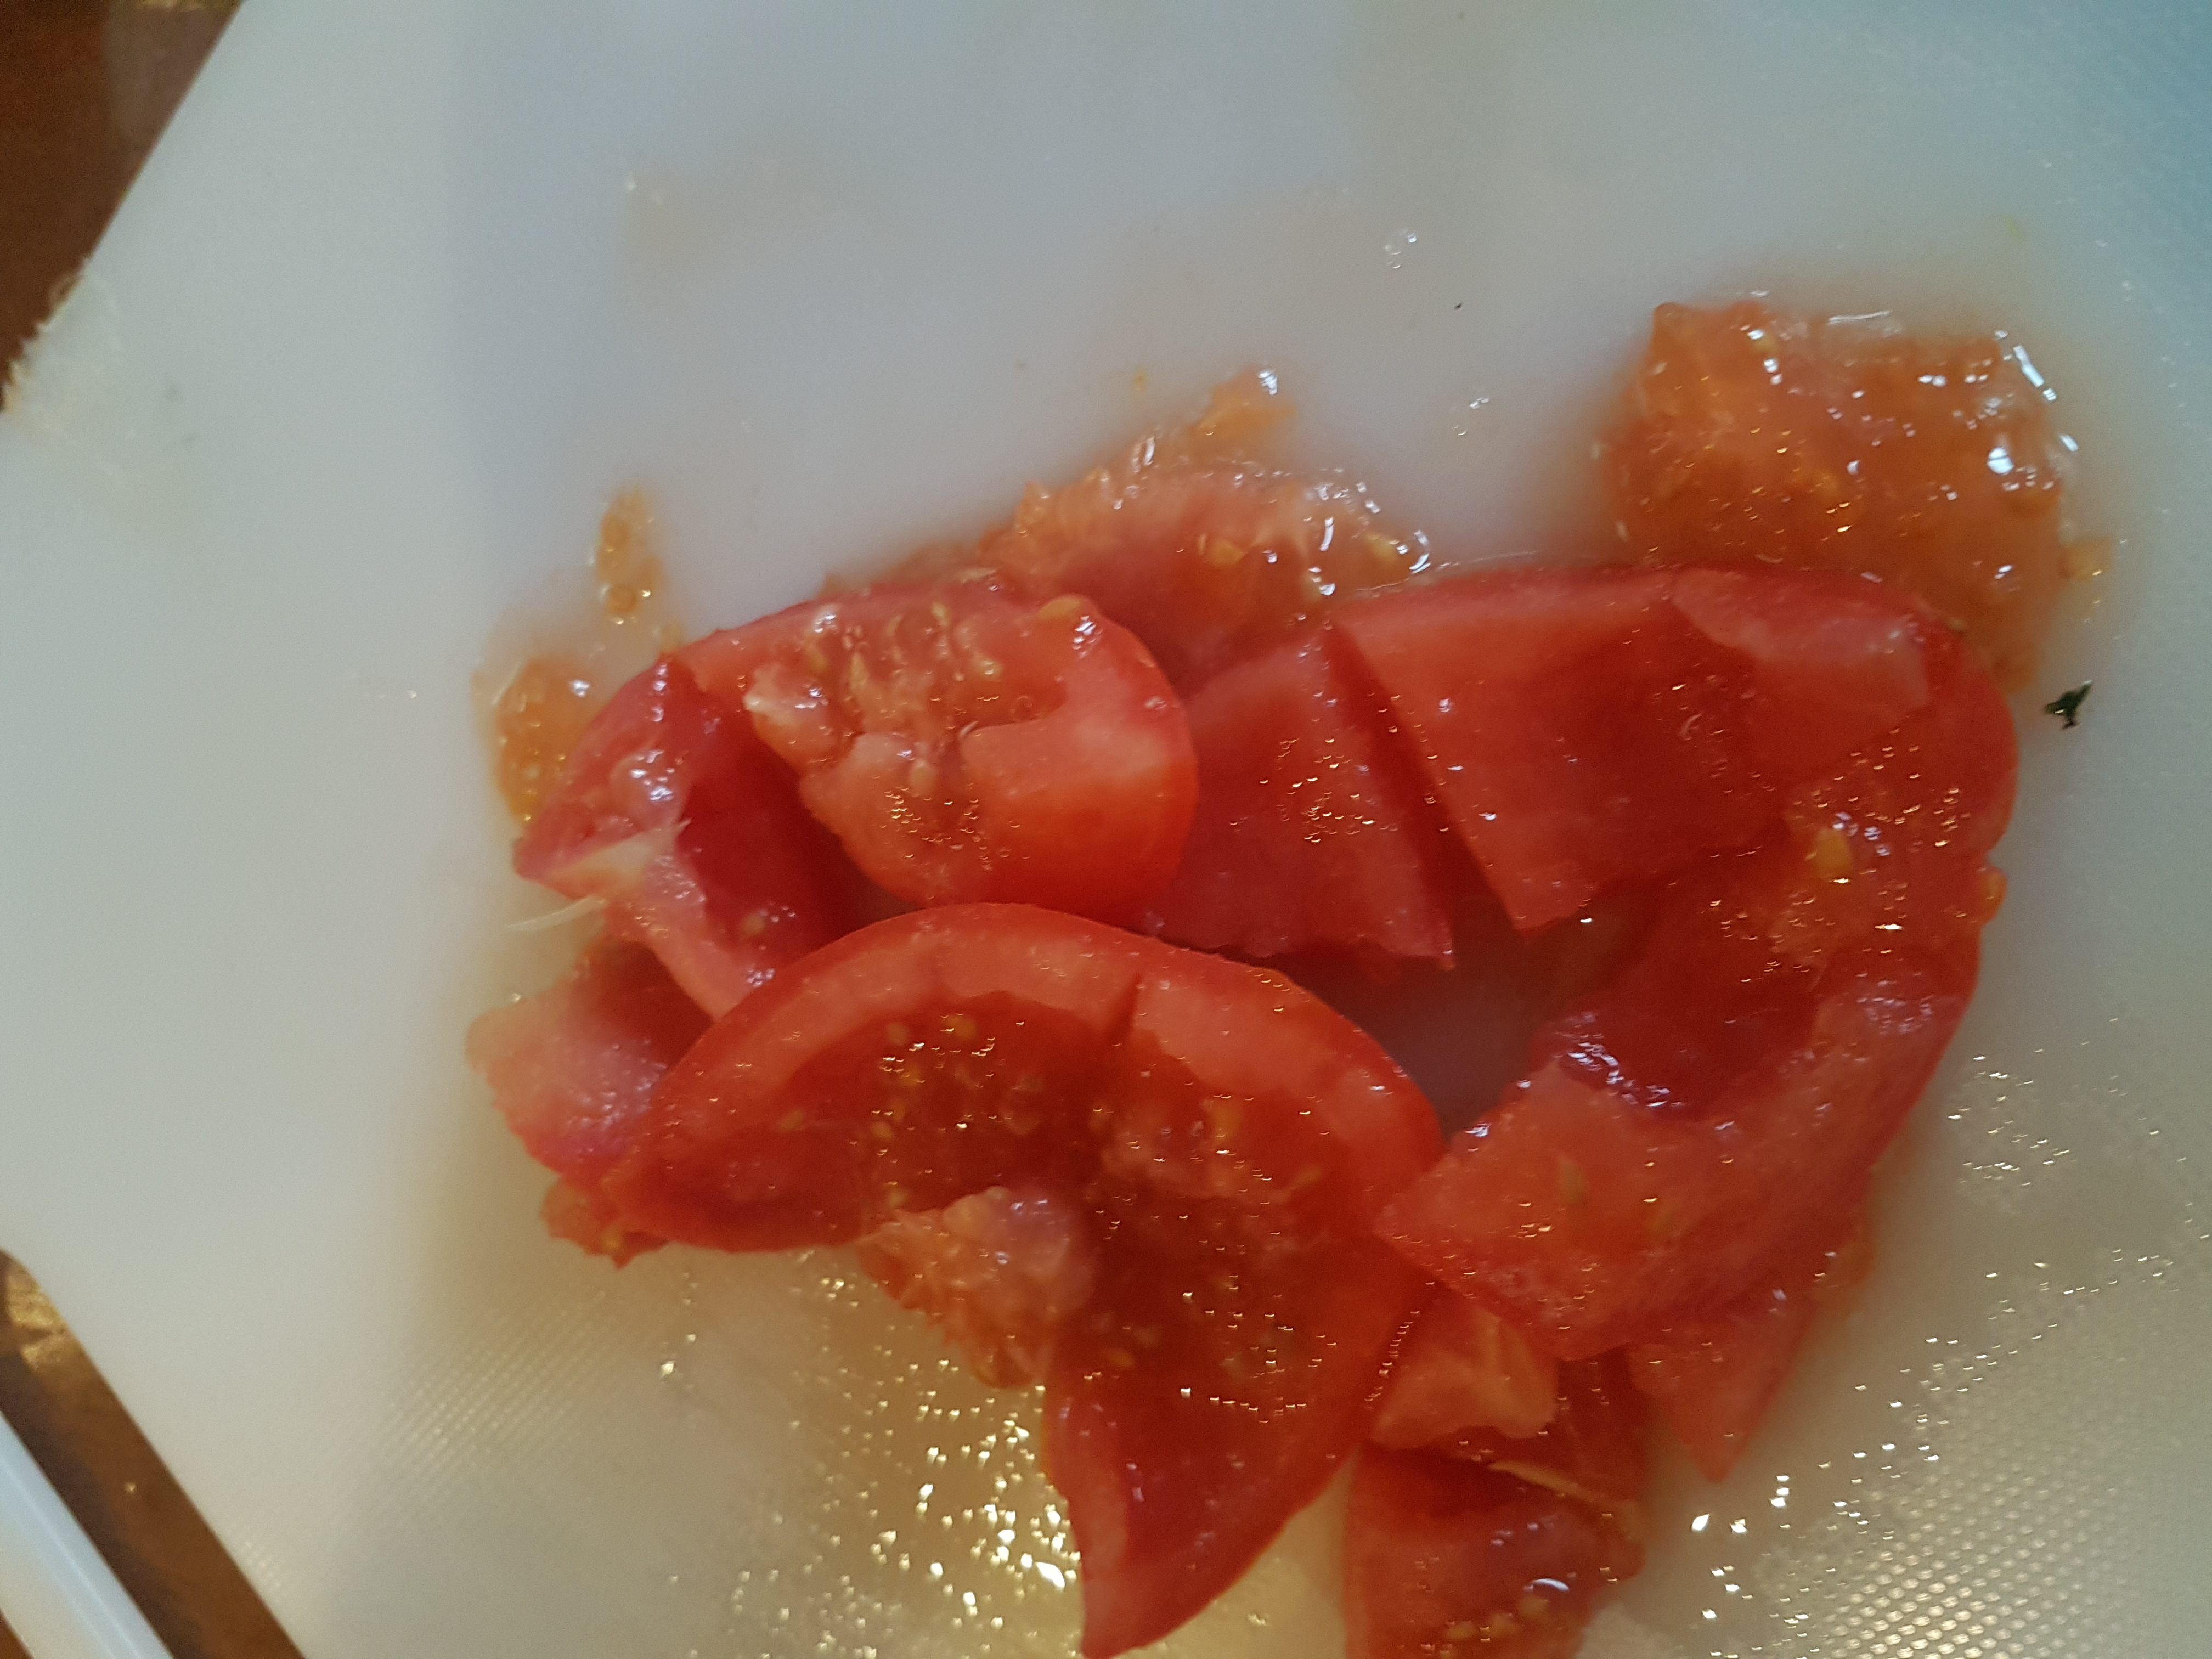Tomato: (253, 300, 2163, 1647)
